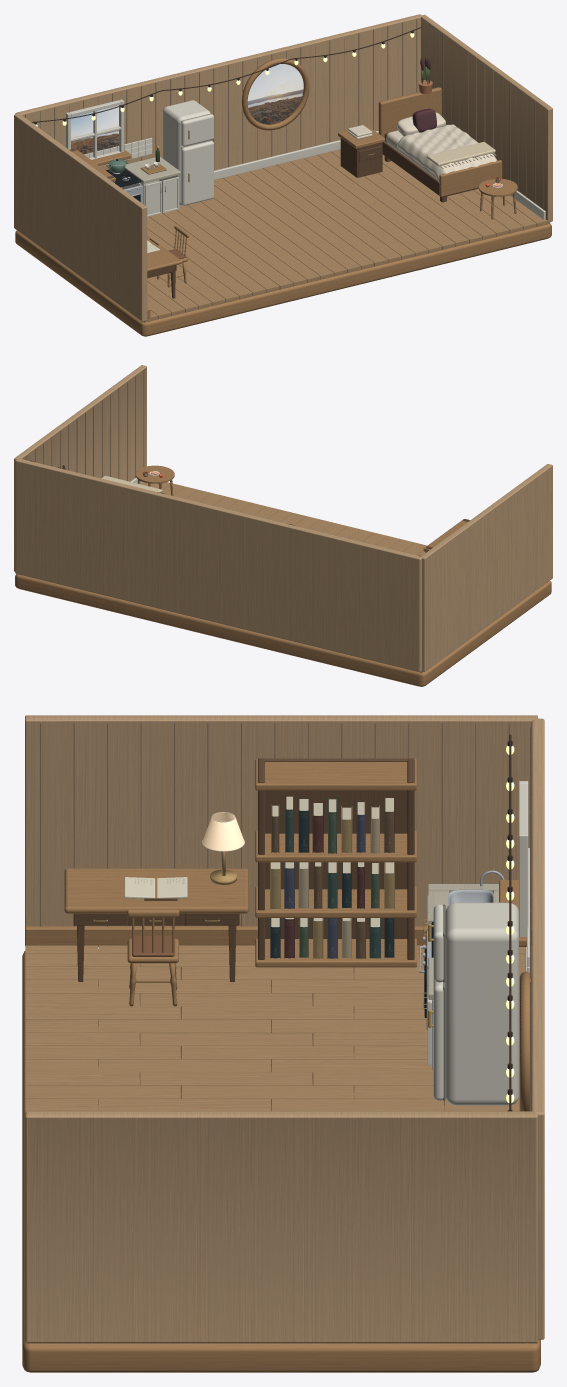
The model's file is kitchen-study.glb.
The picture shows the model from 3 angles, top to bottom: view 1: azimuth 30°, elevation 25°; view 2: azimuth 150°, elevation 25°; view 3: azimuth 270°, elevation 25°; orthographic projection. The views are drawn at different scales.
Visible parts, largest first — view 1: architecture - Refined wall-oak, architecture - Refined floor-oak, architecture - Refined honey-oak, kitchen - Warm ivory lacquer, architecture - Timber seams, bed - Refined honey-oak, bed - Refined woven ivory-linen, Round dusk window, bed - Refined warm-walnut, Kitchen photographic sunset view, architecture - Warm ivory lacquer, study - Refined honey-oak (+7 smaller); view 2: architecture - Refined wall-oak, architecture - Refined honey-oak, architecture - Refined floor-oak, architecture - Timber seams, tea - Refined honey-oak; view 3: architecture - Refined wall-oak, architecture - Refined floor-oak, study - Refined honey-oak, architecture - Refined honey-oak, kitchen - Warm ivory lacquer, study - Refined warm-walnut, study - Cloth bindings and foil titles, architecture - Timber seams, study - Ivory individual page edges, Round oak window frame, study - PBR uncoated paper, decoration - String light cable (+4 smaller).
Part boxes in pixels (bbox=[...]): architecture - Refined wall-oak: bbox=[14, 14, 552, 321]; architecture - Refined floor-oak: bbox=[143, 149, 550, 322]; architecture - Refined honey-oak: bbox=[15, 224, 551, 336]; kitchen - Warm ivory lacquer: bbox=[66, 99, 213, 216]; architecture - Timber seams: bbox=[25, 19, 543, 209]; bed - Refined honey-oak: bbox=[338, 87, 502, 196]; bed - Refined woven ivory-linen: bbox=[348, 112, 497, 186]; Round dusk window: bbox=[247, 64, 303, 124]; bed - Refined warm-walnut: bbox=[340, 133, 478, 202]; Kitchen photographic sunset view: bbox=[71, 105, 118, 154]; architecture - Warm ivory lacquer: bbox=[214, 130, 545, 219]; study - Refined honey-oak: bbox=[72, 148, 188, 287]; architecture - Refined wall-oak: bbox=[14, 365, 552, 672]; architecture - Refined honey-oak: bbox=[15, 574, 551, 686]; architecture - Refined floor-oak: bbox=[141, 482, 426, 672]; architecture - Timber seams: bbox=[26, 370, 144, 480]; tea - Refined honey-oak: bbox=[135, 465, 174, 495]; architecture - Refined wall-oak: bbox=[25, 715, 544, 1342]; architecture - Refined floor-oak: bbox=[25, 945, 537, 1343]; study - Refined honey-oak: bbox=[64, 759, 416, 1006]; architecture - Refined honey-oak: bbox=[22, 926, 540, 1372]; kitchen - Warm ivory lacquer: bbox=[427, 781, 528, 1105]; study - Refined warm-walnut: bbox=[73, 758, 414, 981]; study - Cloth bindings and foil titles: bbox=[270, 795, 394, 958]; architecture - Timber seams: bbox=[40, 723, 530, 1111]; study - Ivory individual page edges: bbox=[270, 796, 393, 927]; Round oak window frame: bbox=[519, 971, 531, 1111]; study - PBR uncoated paper: bbox=[124, 877, 187, 898]; decoration - String light cable: bbox=[507, 734, 512, 1111].
Bounding box in the file's own units: 8.52 × 2.58 × 4.68.
Materials: 34 (18 with a texture image).
